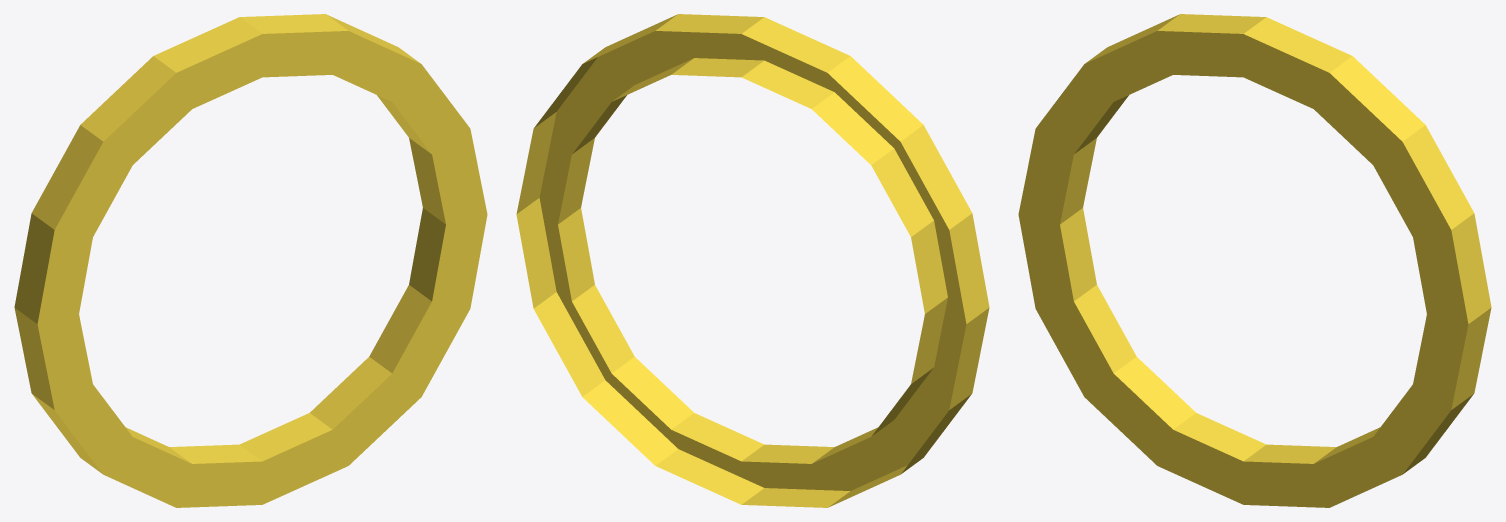
The model's file is PEDESTAL.obj.
3 renders of one model, left to right at view 1: azimuth 30°, elevation 25°; view 2: azimuth 150°, elevation 25°; view 3: azimuth 330°, elevation 25°, orthographic.
Parts seen in each view (by area): view 1: Circle; view 2: Circle; view 3: Circle.
Part boxes in pixels (x1,y1,x2,y2): Circle: (14,14,487,507); Circle: (516,14,989,507); Circle: (1018,14,1491,507).
Size of the model in its own units: 9.81 by 9.81 by 0.8715.
